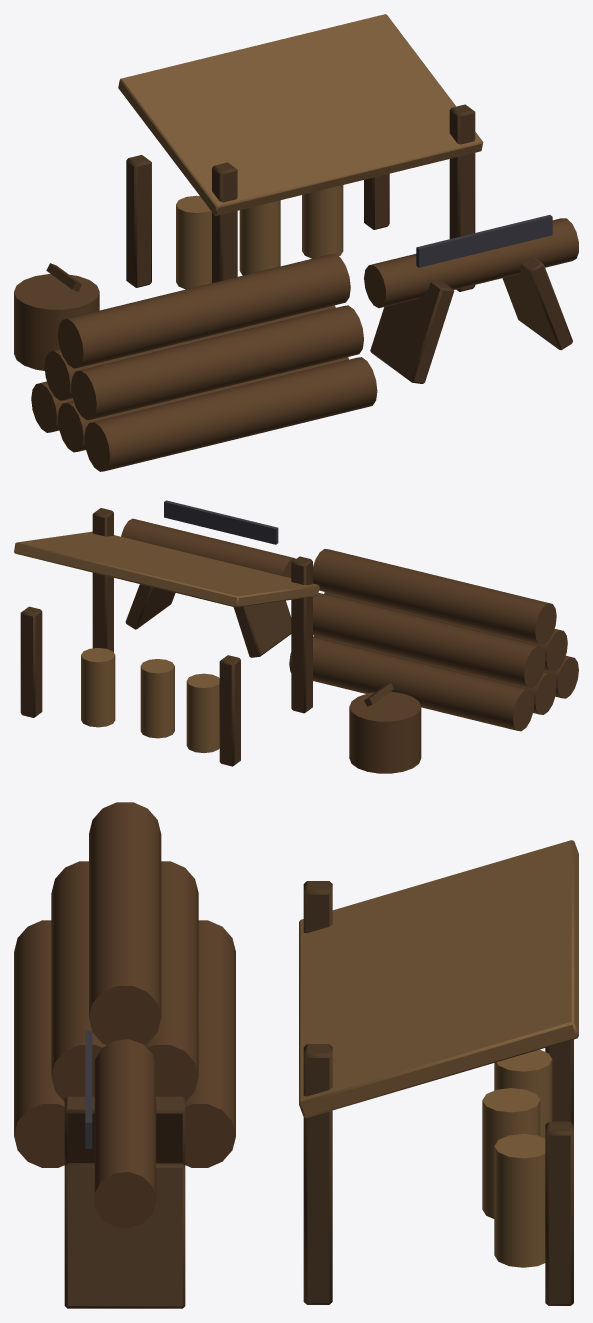
Rendered from lumber.glb.
The picture shows the model from 3 angles, top to bottom: view 1: azimuth 30°, elevation 25°; view 2: azimuth 150°, elevation 25°; view 3: azimuth 270°, elevation 25°; orthographic projection. The views are drawn at different scales.
Visible parts, largest first — view 1: building; view 2: building; view 3: building.
Part boxes in pixels (bbox=[...]): building: bbox=[14, 14, 578, 471]; building: bbox=[14, 500, 578, 773]; building: bbox=[14, 802, 578, 1308].
Bounding box in the file's own units: 3.35 × 1.32 × 2.34.
